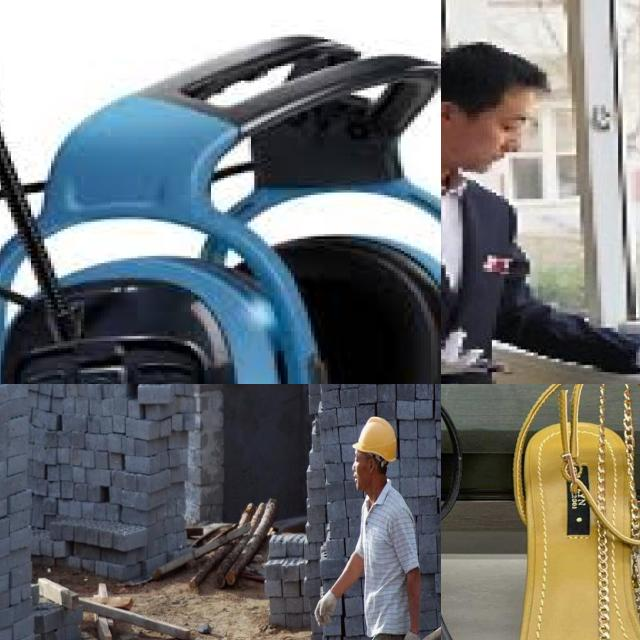Ear-protection: (0, 251, 284, 384), (287, 226, 441, 384)
No_Ear-Protection: (441, 96, 454, 135), (368, 457, 375, 475)
Sandals: (507, 384, 640, 640), (441, 384, 533, 640)
face_nomask: (452, 90, 530, 190), (352, 463, 368, 490)
hand_glove: (441, 325, 484, 379), (314, 589, 338, 627), (403, 631, 421, 640)
head_helmet: (352, 417, 397, 462)
head_nohelmet: (443, 29, 550, 108)
person: (441, 15, 598, 384)
